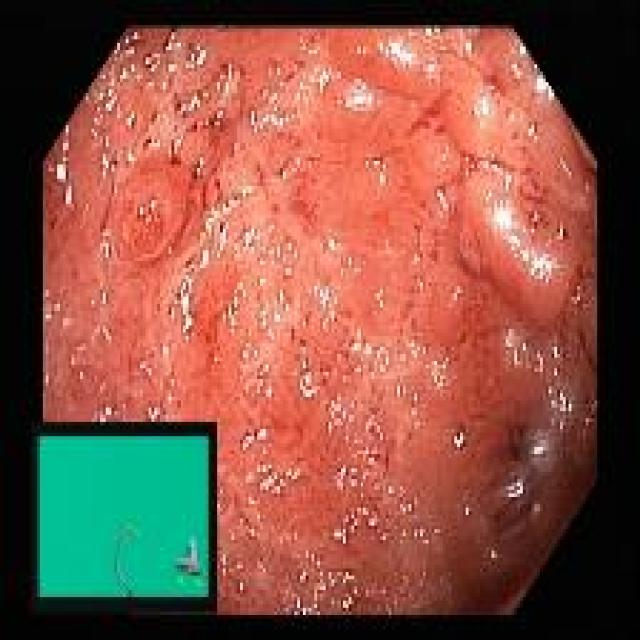ulcerative-colitis: (45, 28, 596, 615)
